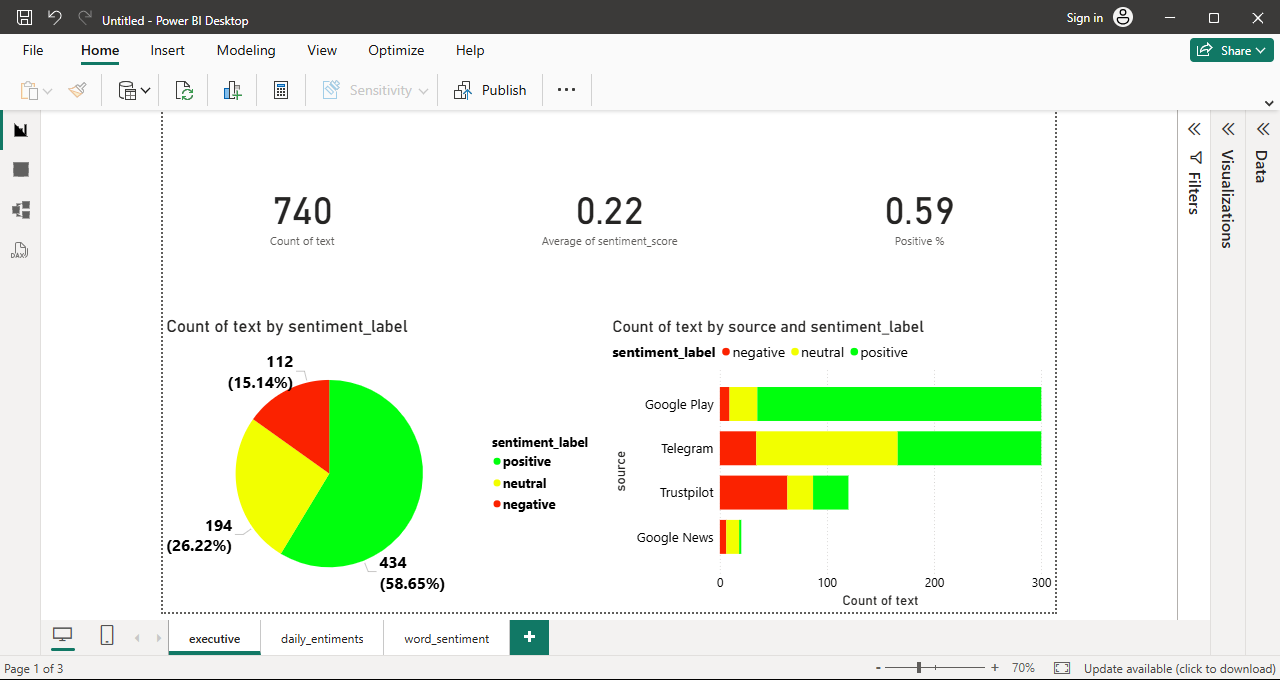

The page's visual inventory and layout, read from the dashboard file:
{"tool":"powerbi","page":{"name":"executive","canvas":[1280,720],"ordinal":0},"visuals":[{"type":"pieChart","fields":{"Category":["all_combined_with_sentiment.sentiment_label"],"Y":["CountNonNull(all_combined_with_sentiment.text)"]},"box":[0,297.3,640,422.2],"z":0},{"type":"card","fields":{"Values":["CountNonNull(all_combined_with_sentiment.text)"]},"box":[0,0,399.5,297.3],"z":1},{"type":"card","fields":{"Values":["Avg(all_combined_with_sentiment.sentiment_score)"]},"box":[399.5,0,480.9,297.3],"z":2},{"type":"card","fields":{"Values":["all_combined_with_sentiment.Positive %"]},"box":[891,0,389,297],"z":3},{"type":"barChart","fields":{"Category":["all_combined_with_sentiment.source"],"Y":["CountNonNull(all_combined_with_sentiment.text)"],"Series":["all_combined_with_sentiment.sentiment_label"]},"box":[640,297.3,640,422.2],"z":4}]}

Visuals, with their boxes on the page's 1280x720 design canvas (x1, y1, x2, y2). These are canvas units, not pixel positions in the 1280x680 screenshot, which may show the page scaled, cropped or inside an application window:
pieChart - all_combined_with_sentiment.sentiment_label x CountNonNull(all_combined_with_sentiment.text): {"left": 0, "top": 297, "right": 640, "bottom": 720}
card - CountNonNull(all_combined_with_sentiment.text): {"left": 0, "top": 0, "right": 400, "bottom": 297}
card - Avg(all_combined_with_sentiment.sentiment_score): {"left": 400, "top": 0, "right": 880, "bottom": 297}
card - all_combined_with_sentiment.Positive %: {"left": 891, "top": 0, "right": 1280, "bottom": 297}
barChart - all_combined_with_sentiment.source x CountNonNull(all_combined_with_sentiment.text): {"left": 640, "top": 297, "right": 1280, "bottom": 720}
